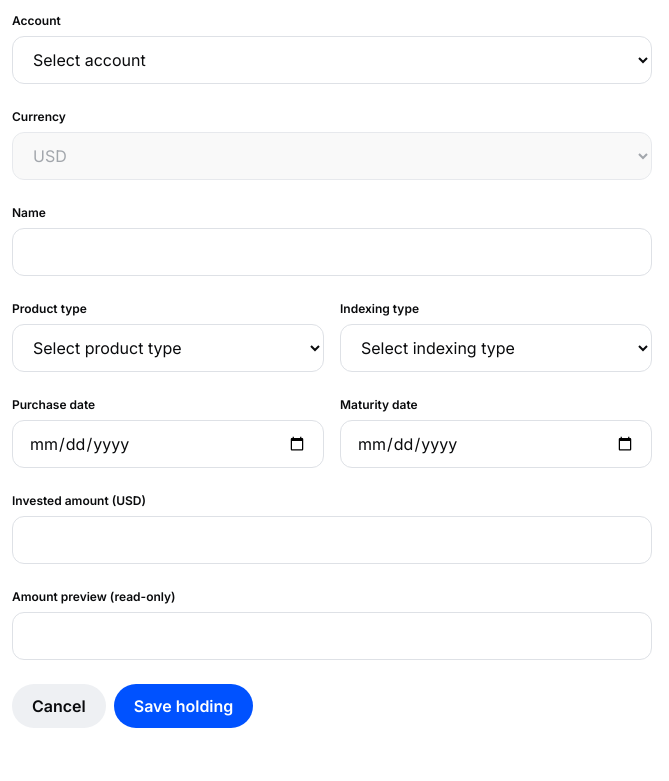
it: BrFiForm indexing fields › hides indicator picker for Pre-Fixed indexing
The image size is (669, 781).
Select "Pre-Fixed" in the dropdown labelled "Indexing type" at [496, 348], box [340,324,652,372]
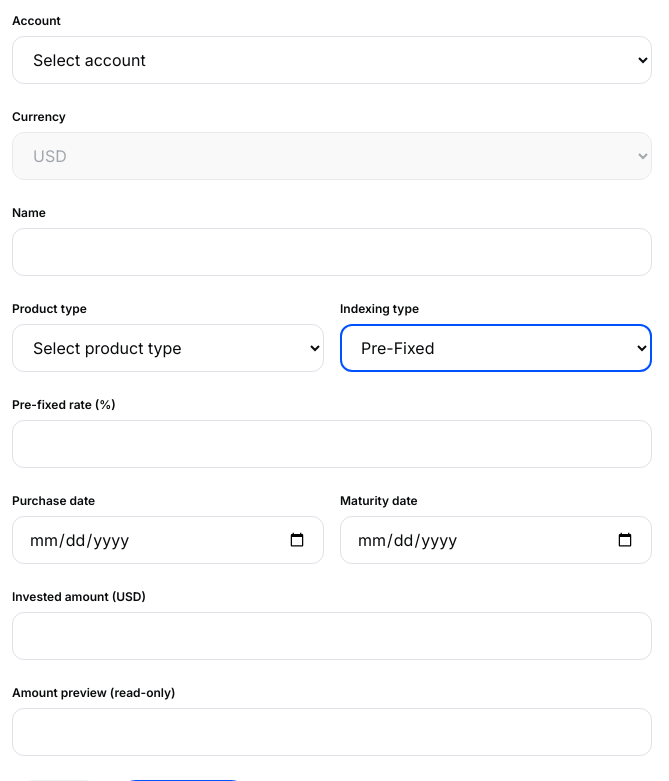
expect the number field labelled "Pre-fixed rate (%)" is shown: met, box [12,420,652,468]
